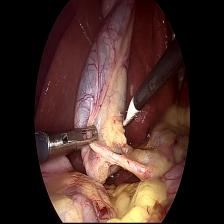Grasper: (46, 124, 101, 155)
Hook: (119, 92, 140, 133)
